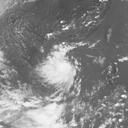cyclone: (37, 44, 77, 89)
